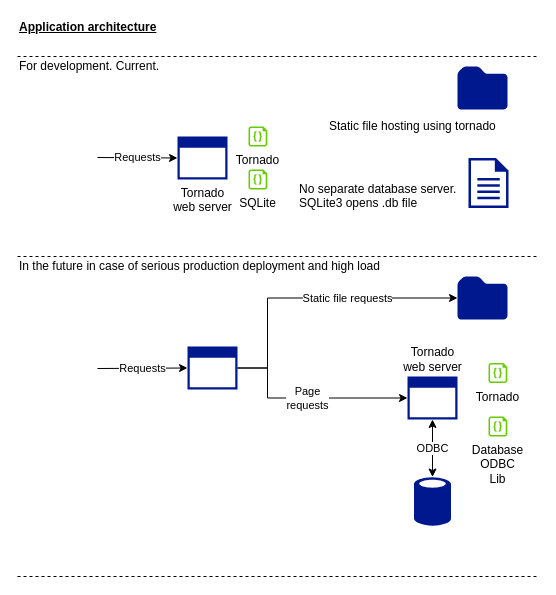
Some shapes in this 556 by 595 pixel diagram are drawn without their labels. The shapes that lost their labels are listed below. From the top down, each one's box as (x1, y1, x2, y2) in pixels, then its label:
(468, 158, 508, 208): Just a .db file
(187, 346, 237, 389): NGINX Web server
(414, 476, 450, 526): Database server
